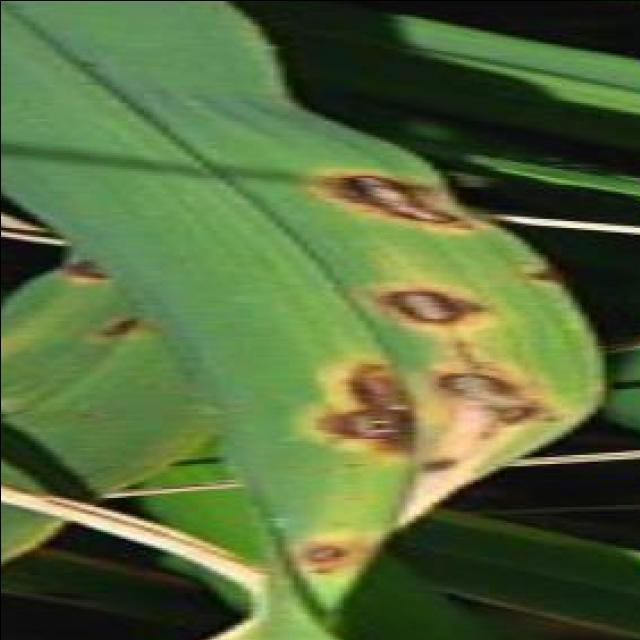Brown_Spot: (298, 156, 492, 256), (344, 259, 508, 361), (286, 398, 426, 470), (420, 347, 531, 422), (312, 348, 418, 420), (461, 390, 567, 452), (279, 526, 370, 574), (407, 447, 462, 493), (300, 568, 346, 590)
